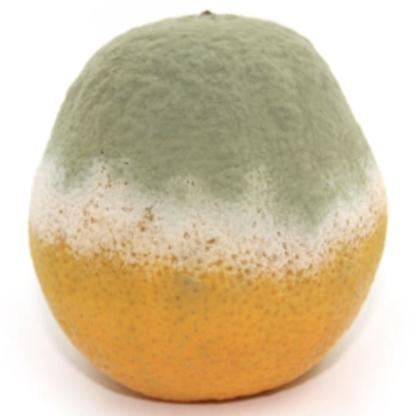rotten: (32, 13, 389, 403)
